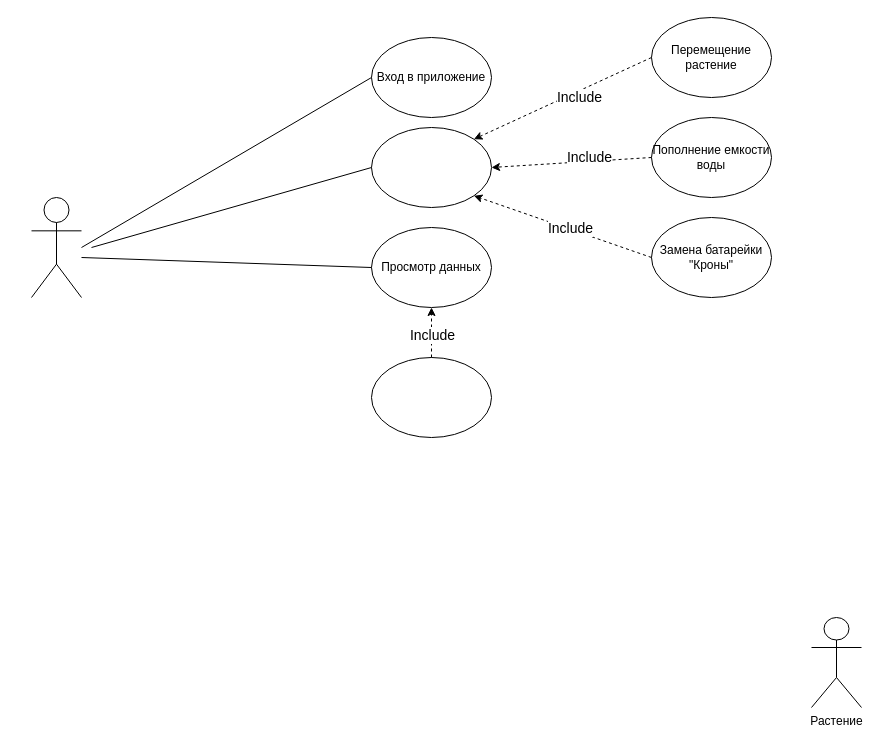
Image size: 880x746. Some labels were removed from this diagram. Each missing label, with the centre of its shape:
"Восполнение потребностей системы" belongs at (431,167).
"Пользователь" belongs at (56,247).
"Просмотр уведомлений" belongs at (431,397).
